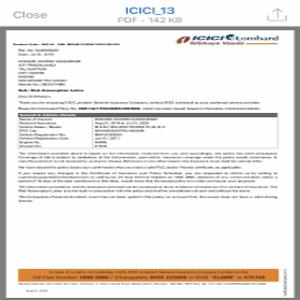image: (172, 30, 280, 47)
table: (17, 113, 279, 149)
text: (13, 47, 261, 111), (17, 151, 281, 204)
